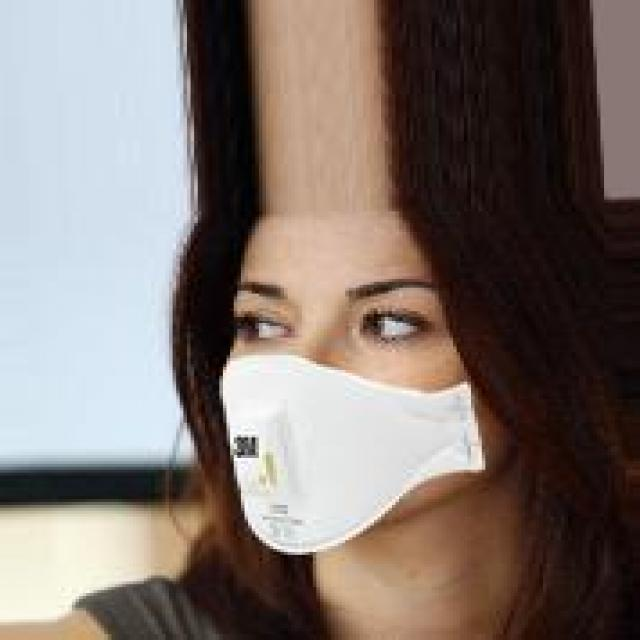mask: (158, 214, 572, 582)
